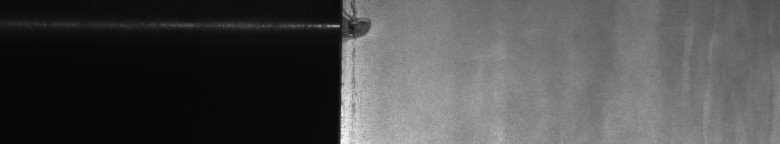hb: (352, 4, 377, 116)
